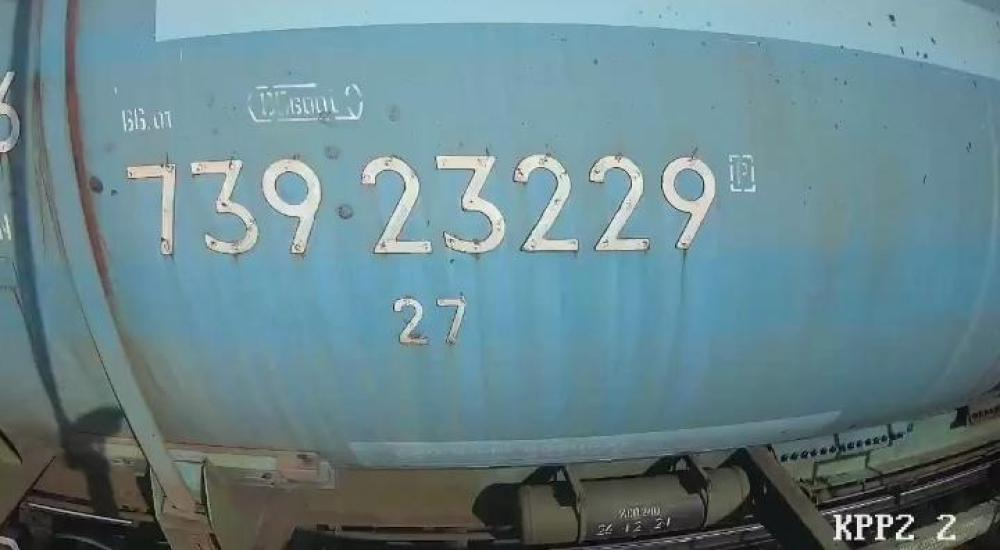Wagon-number: (120, 148, 726, 263)
